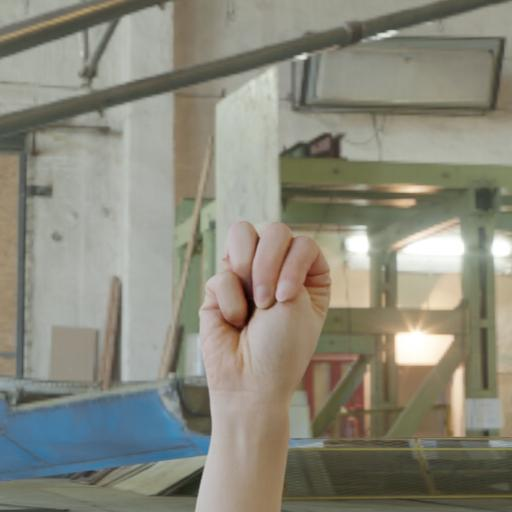M: (196, 215, 336, 416)
